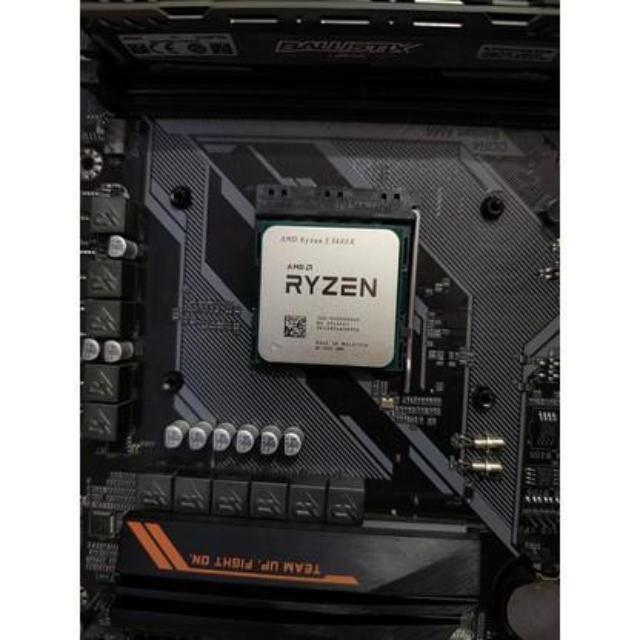CPU: (258, 222, 402, 376)
